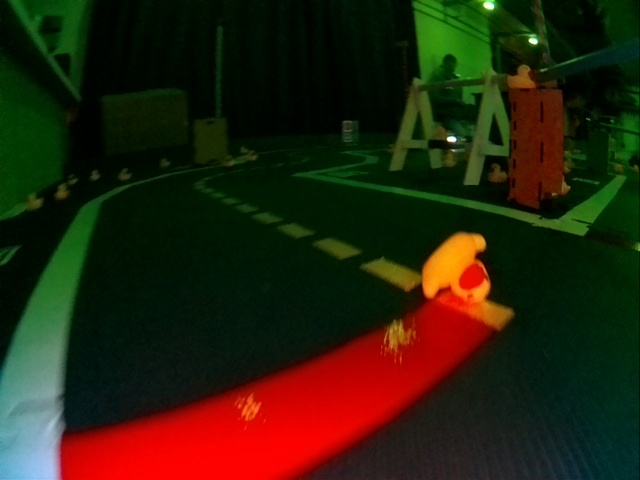Duckie: (424, 230, 490, 303), (508, 65, 533, 87), (489, 163, 507, 182), (27, 192, 42, 210), (55, 183, 69, 198), (119, 168, 131, 181), (90, 171, 99, 181), (160, 158, 169, 167), (225, 155, 233, 165), (248, 151, 255, 161)
